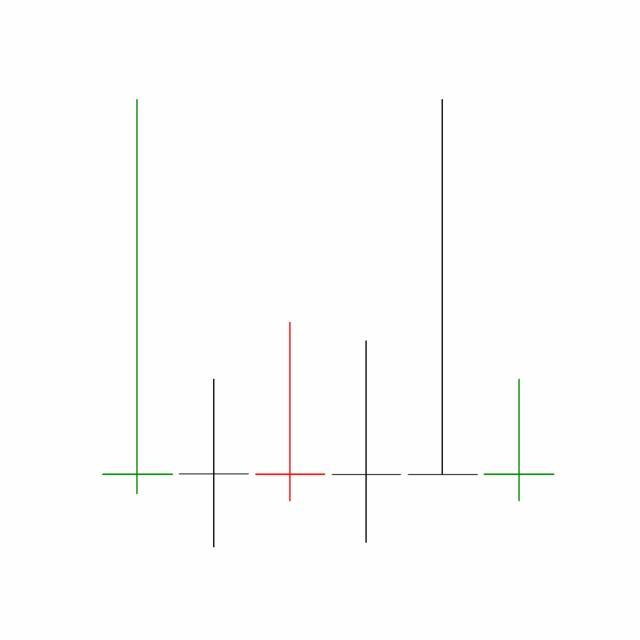Gravestone Doji: (404, 96, 482, 480)
